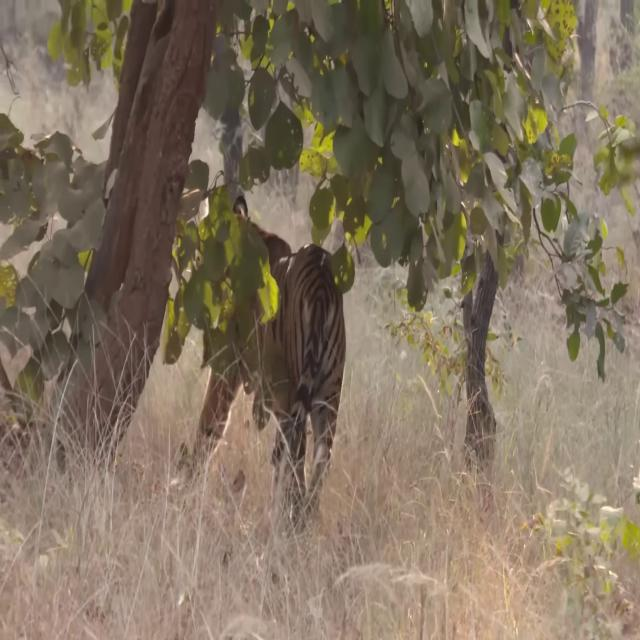tiger: (186, 174, 347, 522)
